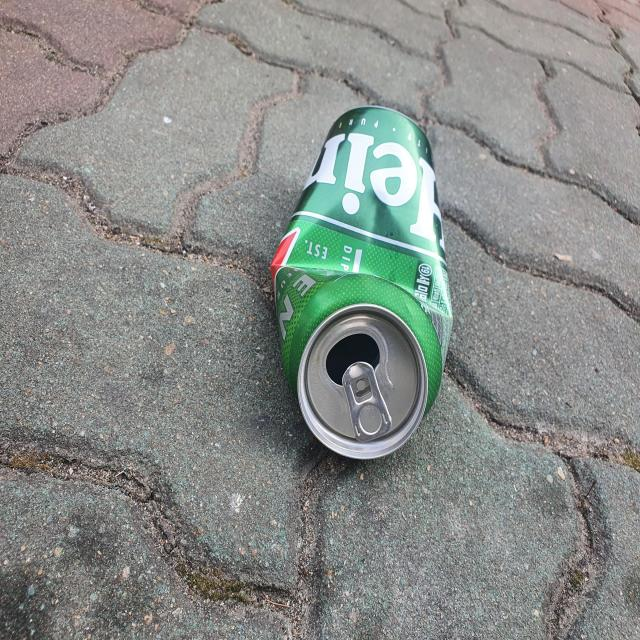can: (270, 105, 453, 459)
